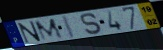4: (108, 9, 125, 32)
7: (121, 5, 138, 31)
I: (62, 14, 78, 40)
M: (34, 17, 65, 42)
N: (17, 21, 43, 45)
S: (80, 12, 104, 35)
